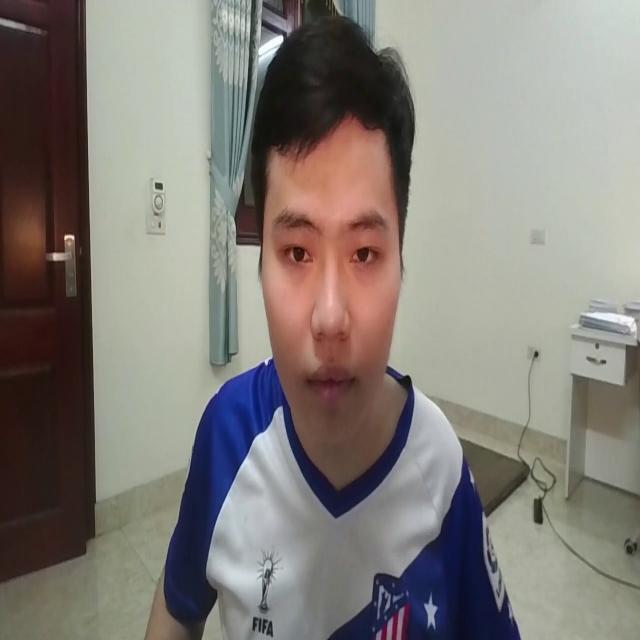student: (126, 6, 527, 640)
